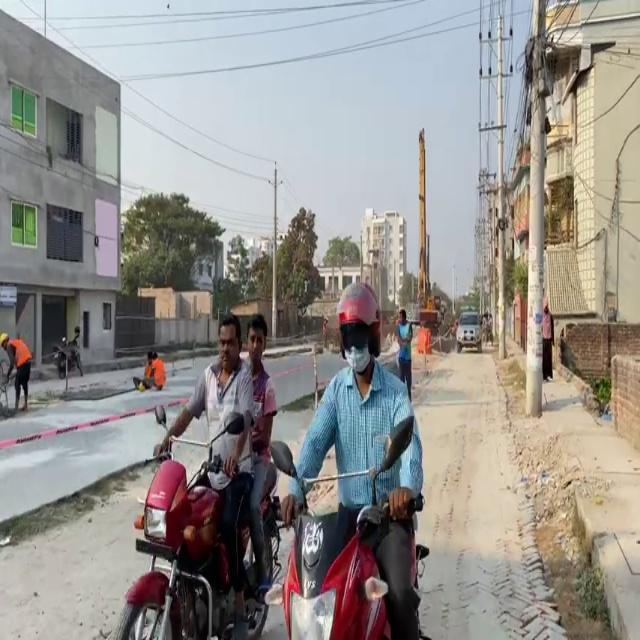Construction-barrier: (570, 470, 639, 638), (589, 530, 639, 638)
Fallen-tree: (111, 403, 280, 639), (51, 331, 83, 379), (132, 375, 161, 391)
Garbage-bin: (279, 280, 427, 639), (153, 314, 258, 632), (238, 313, 278, 605), (0, 331, 33, 411), (394, 308, 413, 399), (541, 305, 554, 381)
Light-pole: (520, 12, 554, 412), (411, 127, 443, 334)
Pothole: (410, 343, 565, 639), (497, 337, 639, 638)
